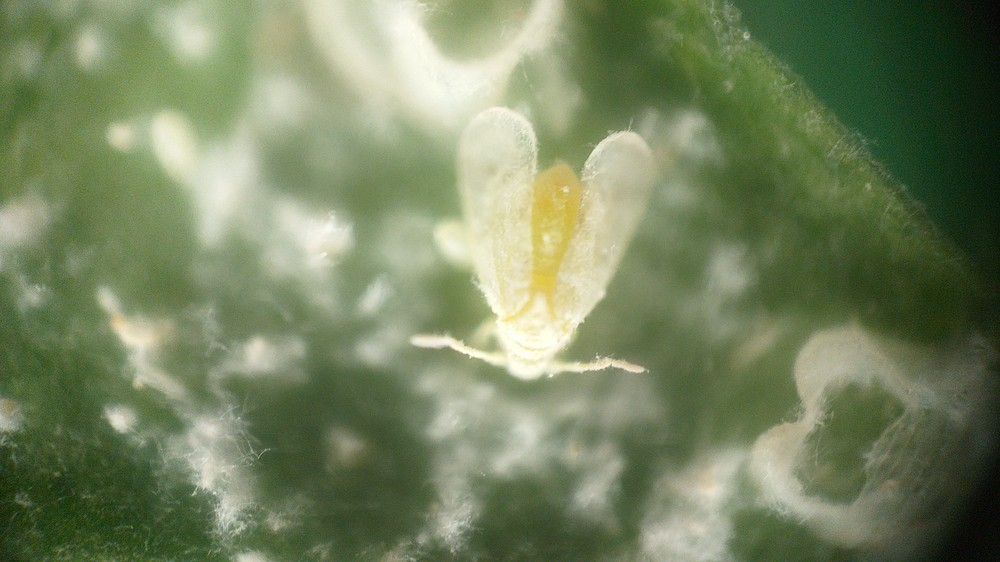Mosca Blanca: (410, 105, 662, 412)
